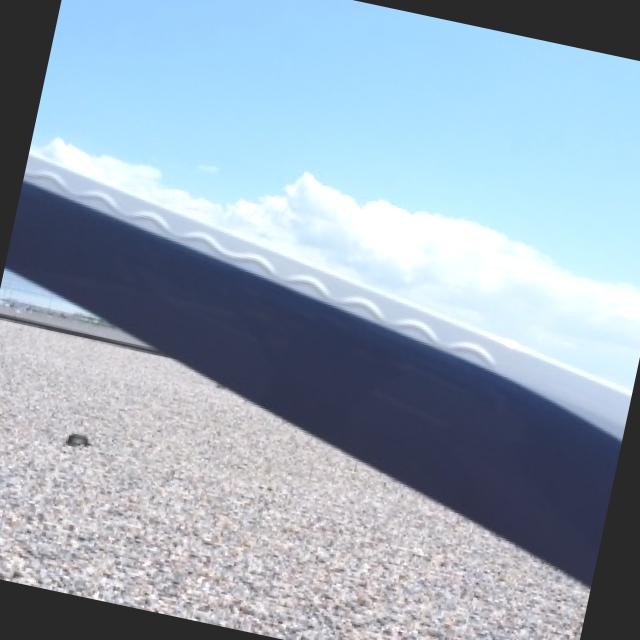healthy: (7, 154, 632, 585)
